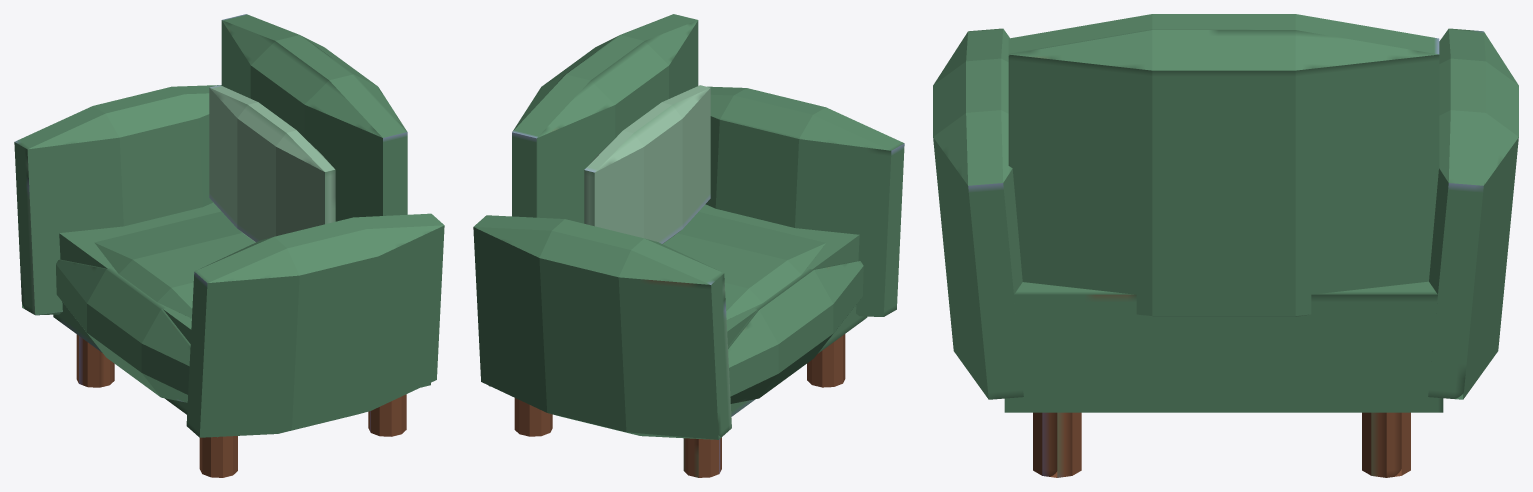
The model's file is chair.fbx.
3 views of the same model, side by side, from view 1: azimuth 30°, elevation 25°; view 2: azimuth 150°, elevation 25°; view 3: azimuth 270°, elevation 25° (orthographic). The views are drawn at different scales.
Visible parts, largest first — view 1: beveled_cuboid_4, beveled_cuboid_5, beveled_cuboid_1, beveled_cuboid, beveled_cuboid_2, beveled_cuboid_3, cube, cylinder_1, cylinder, cylinder_3; view 2: beveled_cuboid_5, beveled_cuboid_4, beveled_cuboid_1, beveled_cuboid, beveled_cuboid_2, beveled_cuboid_3, cube, cylinder_1, cylinder, cylinder_2; view 3: beveled_cuboid_1, cube, beveled_cuboid_5, beveled_cuboid_4, cylinder_2, cylinder_3.
Part boxes in pixels (left/top/right/bottom): beveled_cuboid_4: left=186, top=213, right=444, bottom=437; beveled_cuboid_5: left=14, top=85, right=221, bottom=315; beveled_cuboid_1: left=221, top=14, right=407, bottom=221; beveled_cuboid: left=209, top=85, right=335, bottom=242; beveled_cuboid_2: left=56, top=259, right=190, bottom=402; beveled_cuboid_3: left=94, top=211, right=255, bottom=318; cube: left=53, top=202, right=430, bottom=437; cylinder_1: left=199, top=436, right=237, bottom=477; cylinder: left=76, top=334, right=114, bottom=387; cylinder_3: left=368, top=394, right=406, bottom=436; beveled_cuboid_5: left=473, top=215, right=731, bottom=439; beveled_cuboid_4: left=705, top=86, right=904, bottom=316; beveled_cuboid_1: left=512, top=14, right=698, bottom=223; beveled_cuboid: left=584, top=85, right=710, bottom=243; beveled_cuboid_2: left=728, top=260, right=863, bottom=403; beveled_cuboid_3: left=663, top=212, right=825, bottom=319; cube: left=489, top=204, right=867, bottom=416; cylinder_1: left=807, top=334, right=845, bottom=387; cylinder: left=683, top=437, right=721, bottom=477; cylinder_2: left=514, top=398, right=552, bottom=436; beveled_cuboid_1: left=1008, top=14, right=1439, bottom=316; cube: left=1004, top=281, right=1443, bottom=412; beveled_cuboid_5: left=1428, top=28, right=1518, bottom=399; beveled_cuboid_4: left=933, top=28, right=1023, bottom=399; cylinder_2: left=1362, top=412, right=1410, bottom=477; cylinder_3: left=1033, top=412, right=1081, bottom=477.
Bounding box in the file's own units: 142 × 186 × 225.
1 material, 1 textured.
